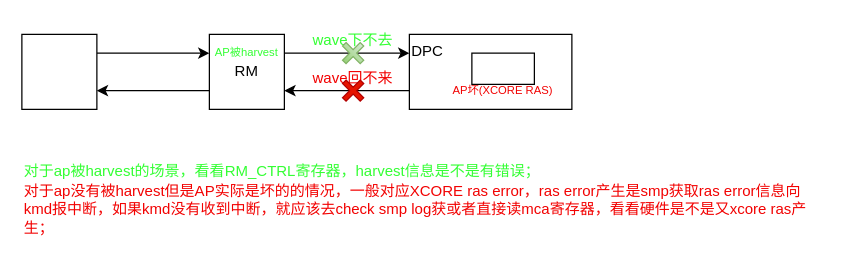
This 844x258 diagram has some shape labels left out. The shapes that lost their labels are listed below. From the top down, each one's centre as x and y in pixels, then its label:
At [59,71]: "CE".
At [502,68]: "AP".
